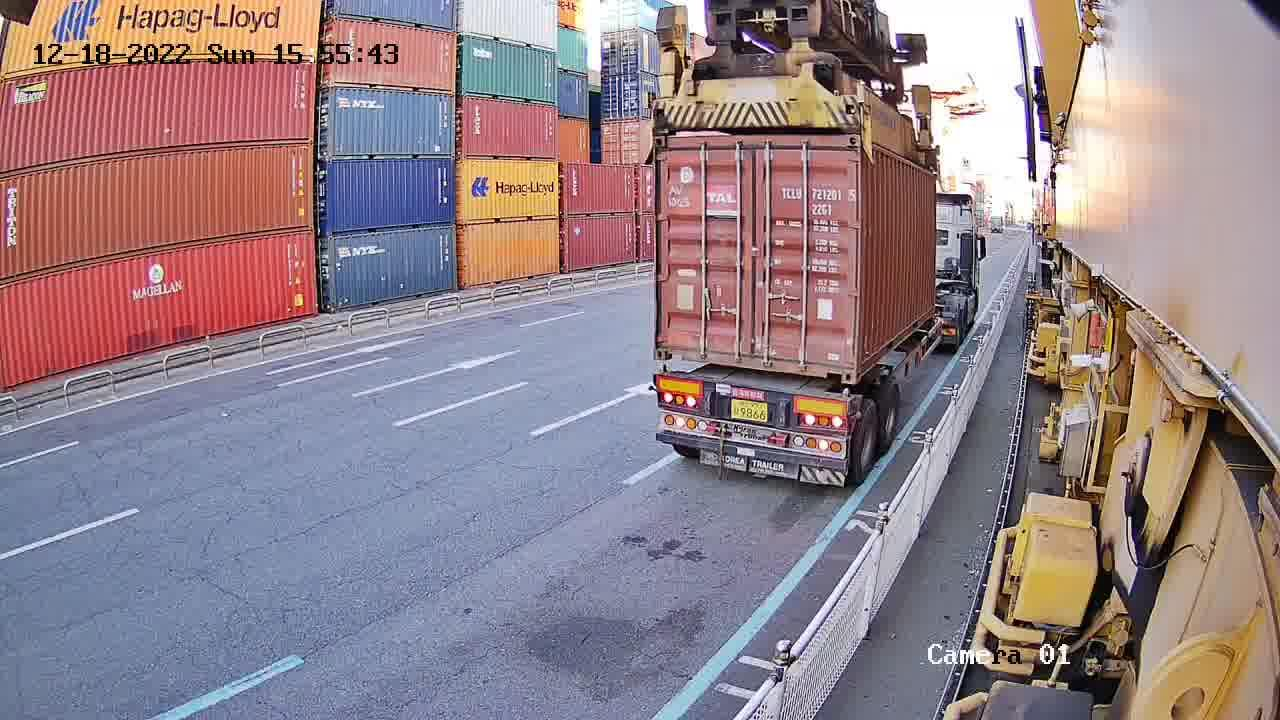Chassis: (656, 369, 855, 417)
Cone: (840, 387, 855, 413), (658, 363, 672, 377)
Hole_L: (653, 326, 688, 361)
Hole_R: (819, 348, 857, 383)
Tire: (853, 405, 881, 480), (881, 385, 901, 456)
